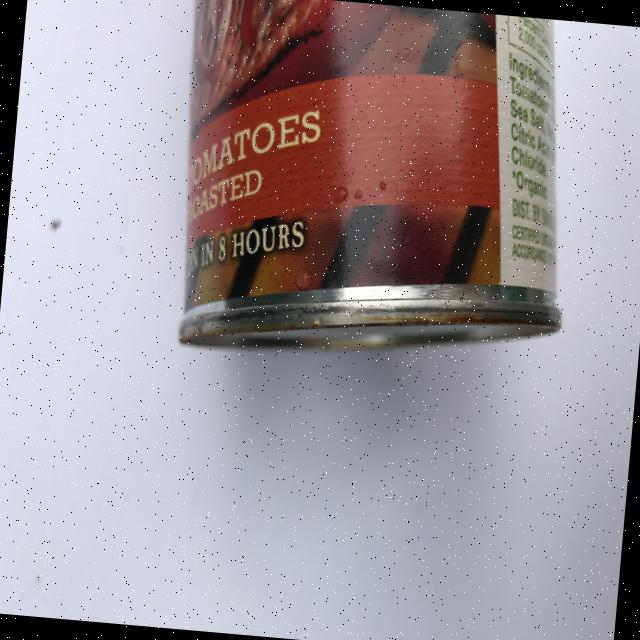metal: (163, 0, 587, 375)
